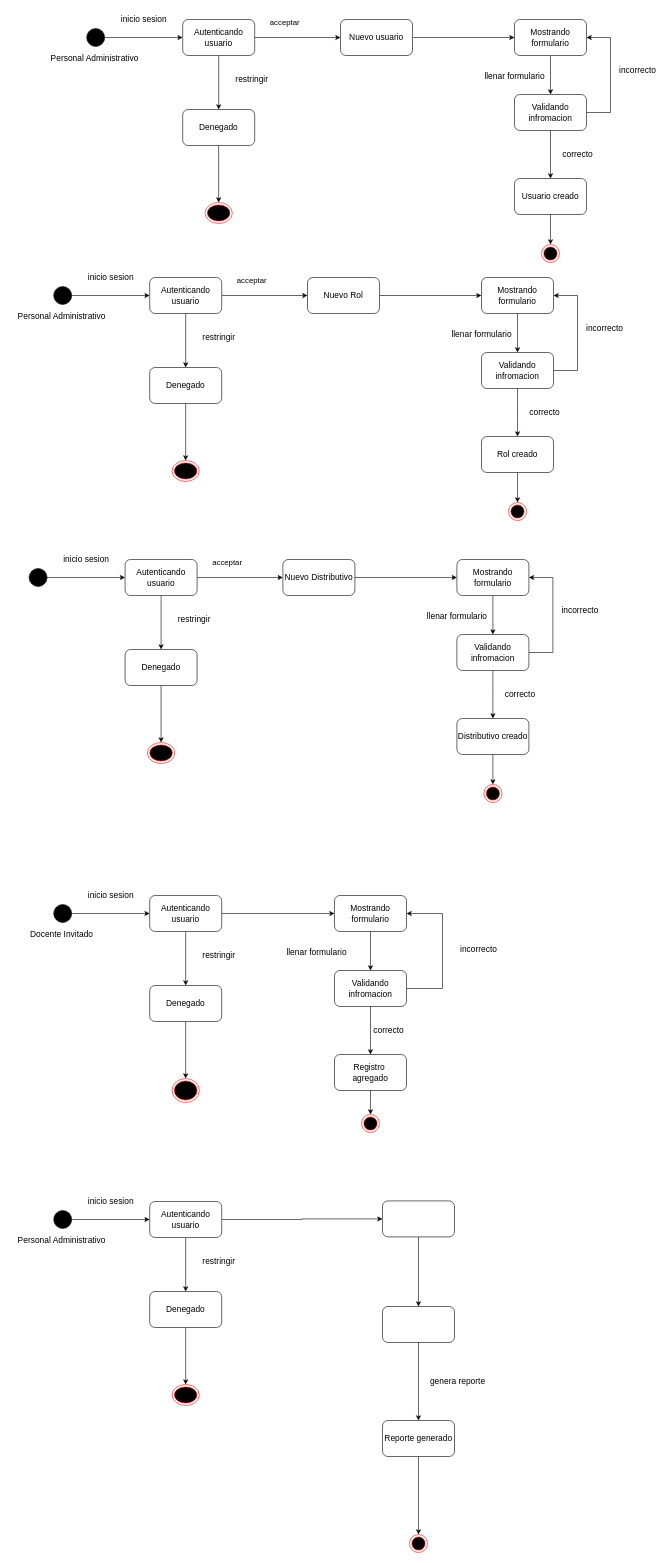
This 671x1563 diagram has some shape labels left out. Here are the shapes that lost their labels. From the top down, the box of each, then its label:
(382, 1200, 454, 1237): Mostrando listado
(382, 1306, 454, 1342): Mostrando informacion
